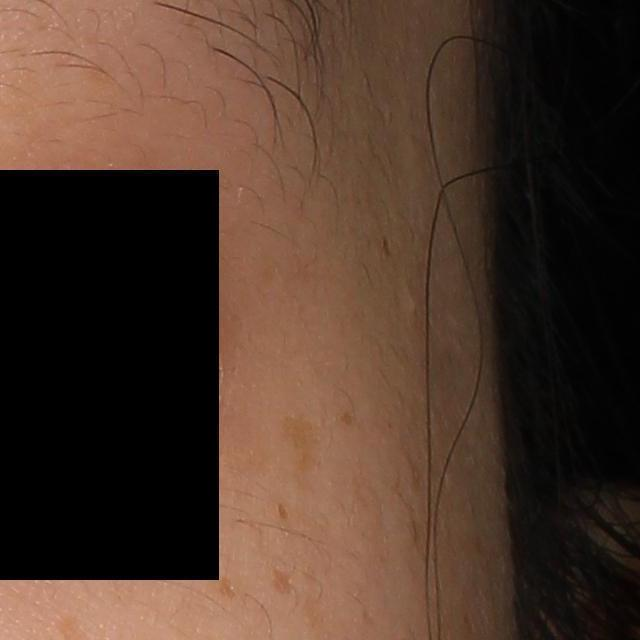melasma: (278, 413, 325, 479), (269, 565, 296, 601), (216, 573, 240, 601), (338, 407, 357, 427), (276, 501, 290, 522)
